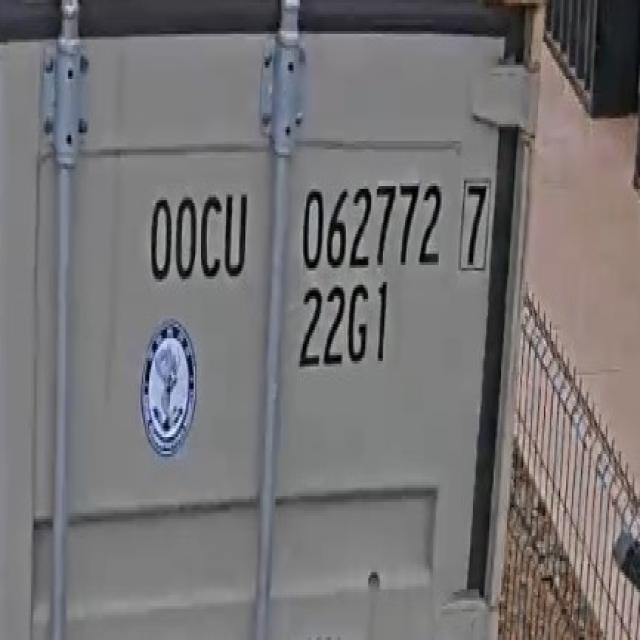dv: (451, 163, 497, 280)
owner: (140, 174, 251, 289)
serial: (296, 170, 443, 272)
size: (293, 276, 395, 386)
